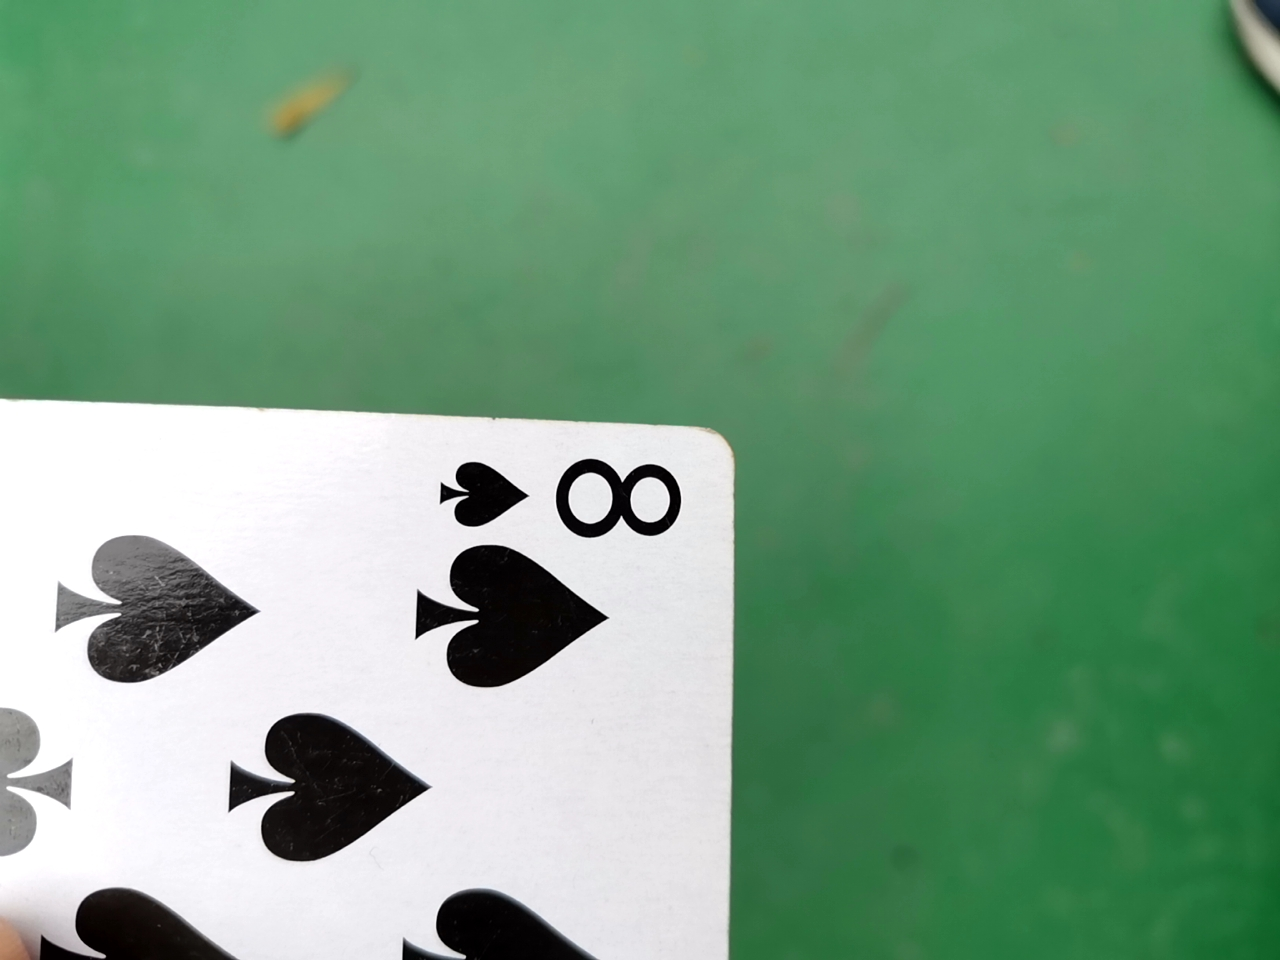ht 8: (5, 379, 763, 953)
